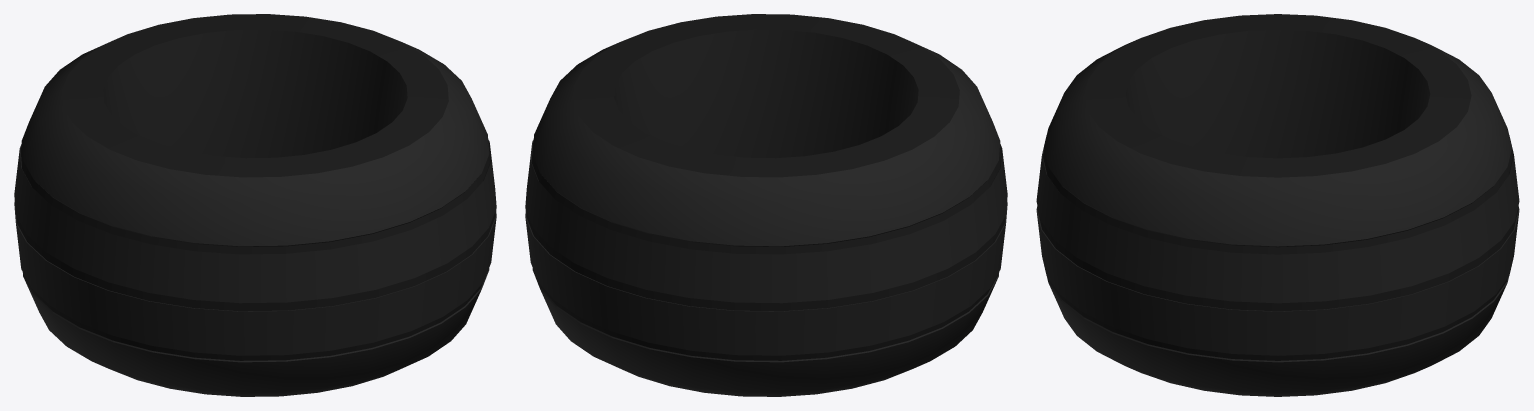
The model's file is LunTai_MoTuo_3X5.FBX.
3 renders of one model, left to right at view 1: azimuth 30°, elevation 25°; view 2: azimuth 150°, elevation 25°; view 3: azimuth 270°, elevation 25°, orthographic.
Visible parts, largest first — view 1: Box002; view 2: Box002; view 3: Box002.
Boxes of the visible parts, x1=… form: Box002: x1=14, y1=14, x2=496, y2=396; Box002: x1=525, y1=14, x2=1007, y2=396; Box002: x1=1036, y1=14, x2=1519, y2=396.
Bounding box in the file's own units: 0.499 × 0.3 × 0.499.
